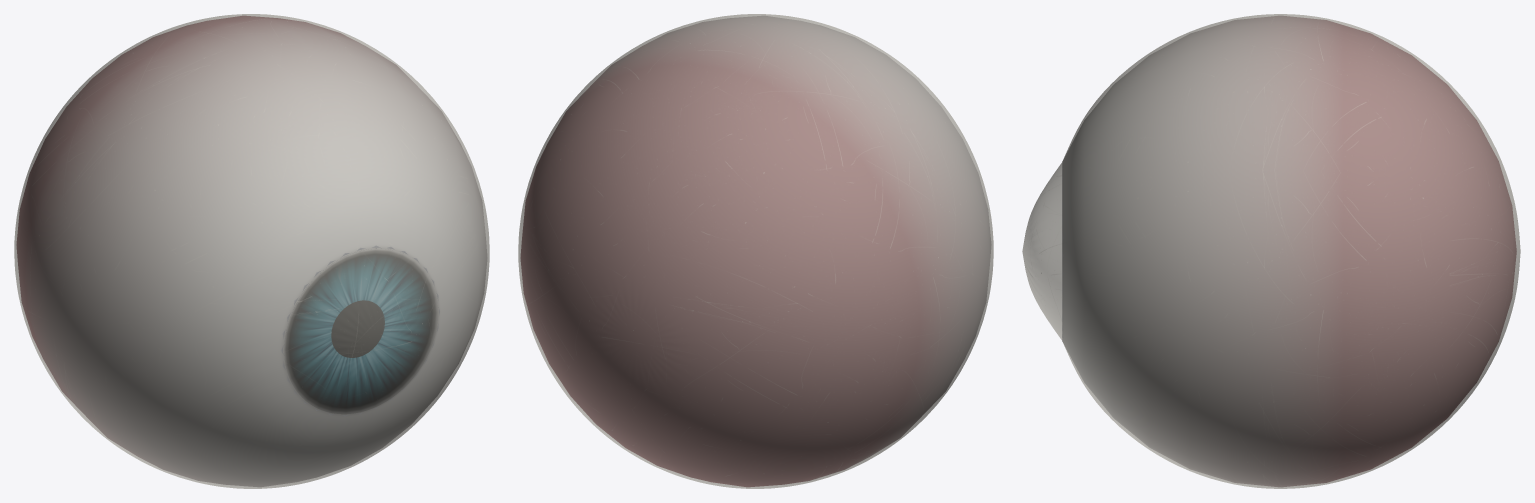
The model's file is oeil_complet.glb.
The picture shows the model from 3 angles, left to right: view 1: azimuth 30°, elevation 25°; view 2: azimuth 150°, elevation 25°; view 3: azimuth 270°, elevation 25°; orthographic projection.
Parts seen in each view (by area): view 1: Sphere.010, Sphere.004; view 2: Sphere.010, Sphere.004; view 3: Sphere.010, Sphere.004.
Part boxes in pixels (x1,y1,x2,y2): Sphere.010: (14,14,489,488); Sphere.004: (16,15,487,487); Sphere.010: (518,14,993,488); Sphere.004: (520,15,991,487); Sphere.010: (1022,14,1520,488); Sphere.004: (1062,15,1516,487).
Bounding box in the file's own units: 2.01 × 2.01 × 2.11.
3 materials, 2 textured.
